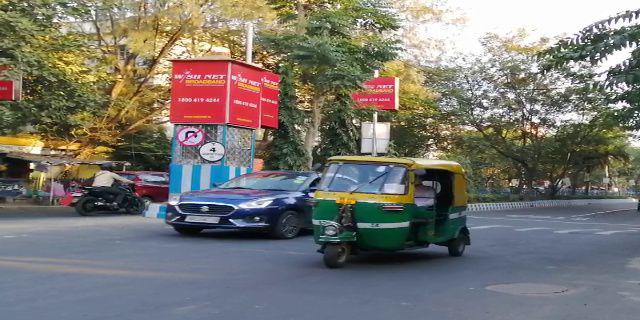Autorickshaw: (306, 153, 473, 270)
Car: (162, 165, 318, 244)
